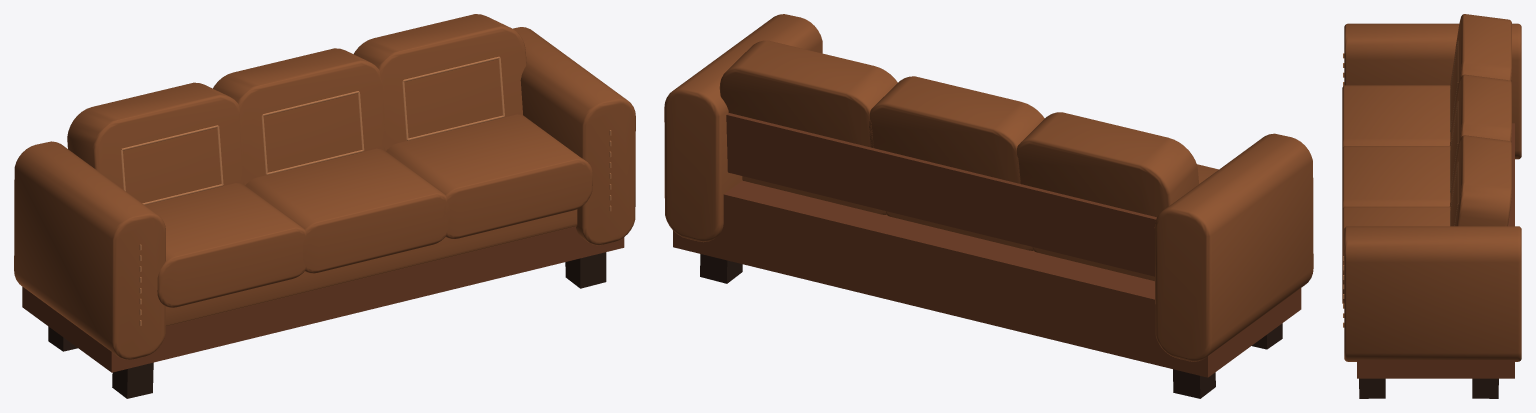
File: cognac-leather-sofa-backRadius-max.glb
3 views of the same model, side by side, from view 1: azimuth 30°, elevation 25°; view 2: azimuth 150°, elevation 25°; view 3: azimuth 270°, elevation 25° (orthographic). The views are drawn at different scales.
Visible parts, largest first — view 1: sofa-part-28, sofa-part-4, seat-cushion-1-part-0, seat-cushion-2-part-0, back-cushion-2-part-0, back-cushion-3-part-0, back-cushion-1-part-0, seat-cushion-3-part-0, sofa-part-7, sofa-part-5, sofa-part-0, sofa-part-2; view 2: sofa-part-4, sofa-part-28, sofa-part-6, back-cushion-3-part-0, sofa-part-7, back-cushion-1-part-0, back-cushion-2-part-0, sofa-part-3, sofa-part-1, seat-cushion-3-part-0, seat-cushion-2-part-0, seat-cushion-1-part-0; view 3: sofa-part-7, sofa-part-28, seat-cushion-2-part-0, seat-cushion-3-part-0, back-cushion-1-part-0, back-cushion-3-part-0, back-cushion-2-part-0, sofa-part-4, seat-cushion-1-part-0, sofa-part-0, sofa-part-1.
Boxes of the visible parts, x1,y1,x2,y2 form: sofa-part-28: (14,141,165,359); sofa-part-4: (22,226,624,372); seat-cushion-1-part-0: (386,114,592,239); seat-cushion-2-part-0: (245,148,449,273); back-cushion-2-part-0: (213,48,385,185); back-cushion-3-part-0: (67,82,244,203); back-cushion-1-part-0: (354,14,526,150); seat-cushion-3-part-0: (145,183,308,307); sofa-part-7: (513,27,635,245); sofa-part-5: (165,209,577,326); sofa-part-0: (565,252,606,288); sofa-part-2: (112,362,153,398); sofa-part-4: (673,180,1301,377); sofa-part-28: (1154,133,1313,361); sofa-part-6: (726,113,1156,276); back-cushion-3-part-0: (1017,112,1198,217); sofa-part-7: (664,14,822,242); back-cushion-1-part-0: (719,40,897,147); back-cushion-2-part-0: (869,76,1044,183); sofa-part-3: (1173,369,1215,398); sofa-part-1: (700,254,742,283); seat-cushion-3-part-0: (1032,164,1218,281); seat-cushion-2-part-0: (886,211,1033,250); seat-cushion-1-part-0: (742,176,886,214); sofa-part-7: (1344,226,1521,361); sofa-part-28: (1344,23,1521,159); seat-cushion-2-part-0: (1342,146,1450,208); seat-cushion-3-part-0: (1342,85,1450,147); back-cushion-1-part-0: (1450,135,1511,226); back-cushion-3-part-0: (1450,14,1511,143); back-cushion-2-part-0: (1450,74,1511,204); sofa-part-4: (1357,123,1514,378); seat-cushion-1-part-0: (1342,206,1450,303); sofa-part-0: (1359,378,1385,398); sofa-part-1: (1472,378,1498,398).
Bounding box in the file's own units: 2.64 × 1.08 × 0.886.
